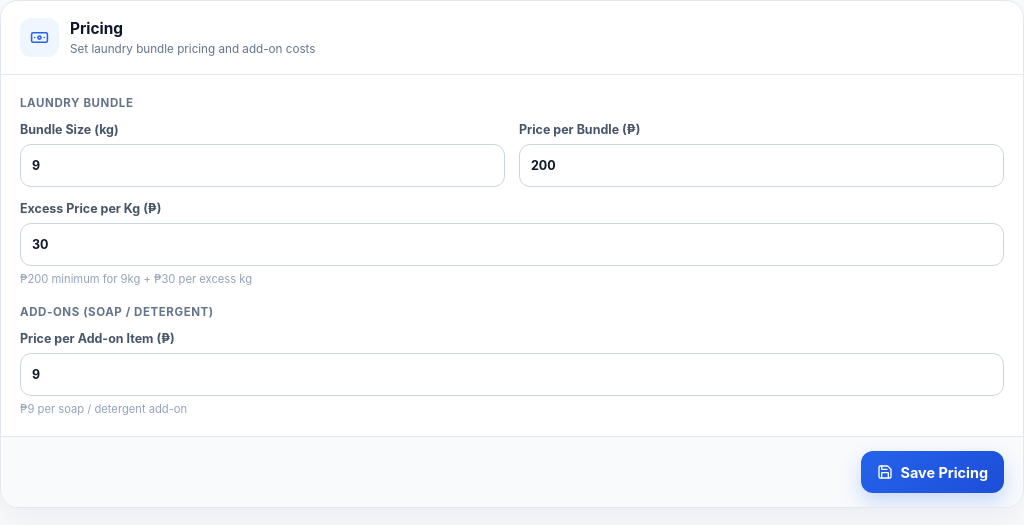
renders and updates pricing summary
The image size is (1024, 525).
Step 1. Replace the text in the number field labelled "Price per Bundle (₱)" with "250" → (762, 166), box [519,144,1004,187]
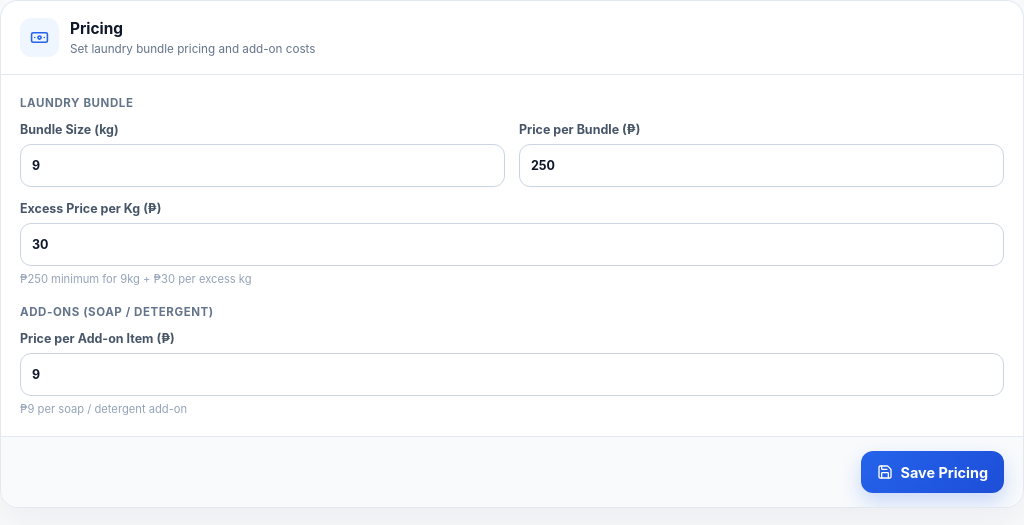
Check: the text "₱250 minimum for 9kg + ₱30 per excess kg" is shown, box [20,272,252,286]
